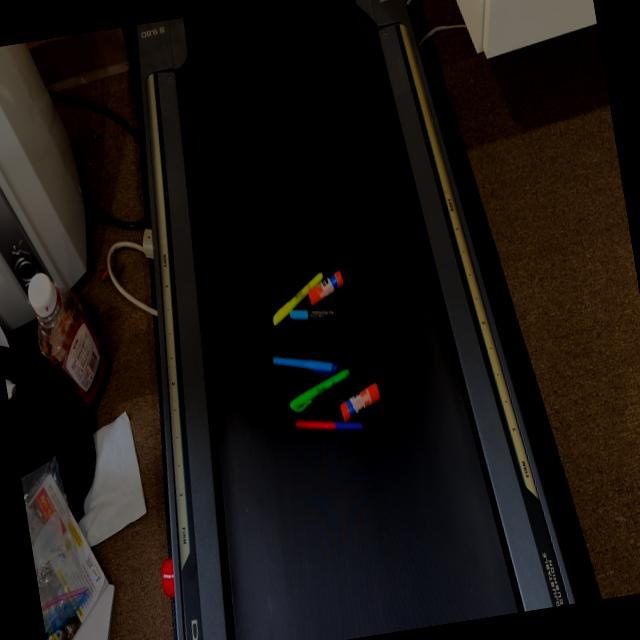Trash: (252, 334, 397, 452), (250, 256, 370, 352)
